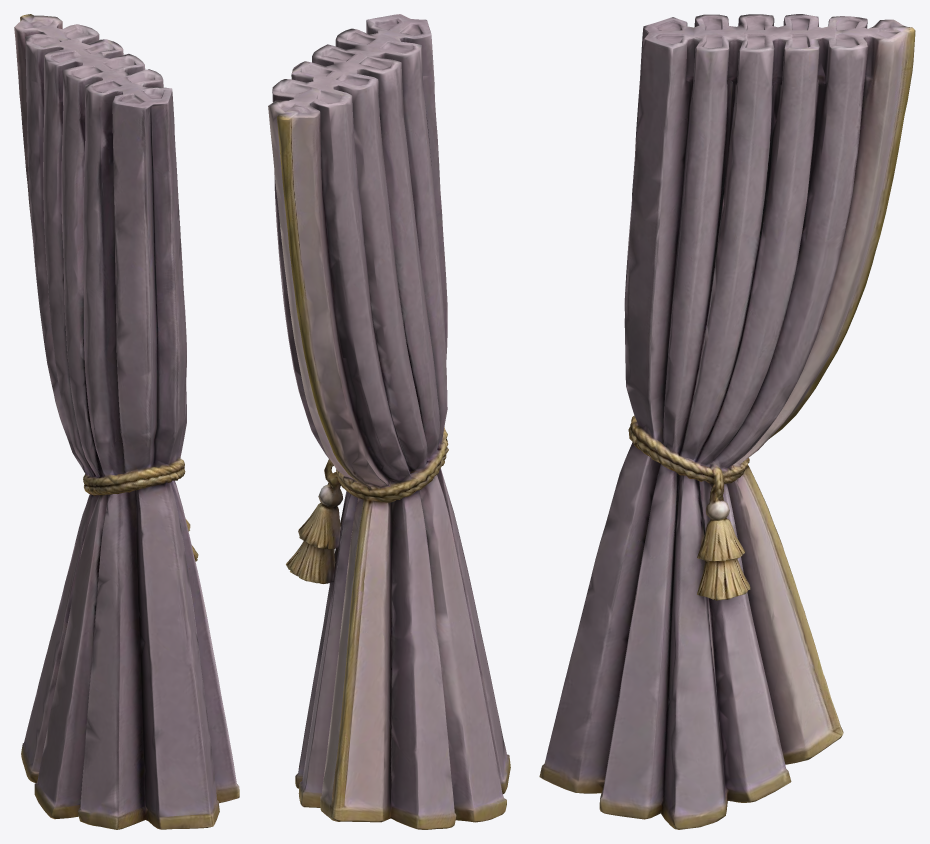
Rendered from purple_curtain.glb.
3 renders of one model, left to right at view 1: azimuth 30°, elevation 25°; view 2: azimuth 150°, elevation 25°; view 3: azimuth 270°, elevation 25°, orthographic. The views are drawn at different scales.
Visible parts, largest first — view 1: tripo_node_7347f321-f301-42f2-be8c-2a8d1fe32b9a; view 2: tripo_node_7347f321-f301-42f2-be8c-2a8d1fe32b9a; view 3: tripo_node_7347f321-f301-42f2-be8c-2a8d1fe32b9a.
Part boxes in pixels (x1,y1,x2,y2): tripo_node_7347f321-f301-42f2-be8c-2a8d1fe32b9a: (14, 14, 239, 829); tripo_node_7347f321-f301-42f2-be8c-2a8d1fe32b9a: (268, 14, 510, 829); tripo_node_7347f321-f301-42f2-be8c-2a8d1fe32b9a: (539, 14, 915, 829).
Bounding box in the file's own units: 0.2635 × 1 × 0.4503.
1 material, 1 textured.
